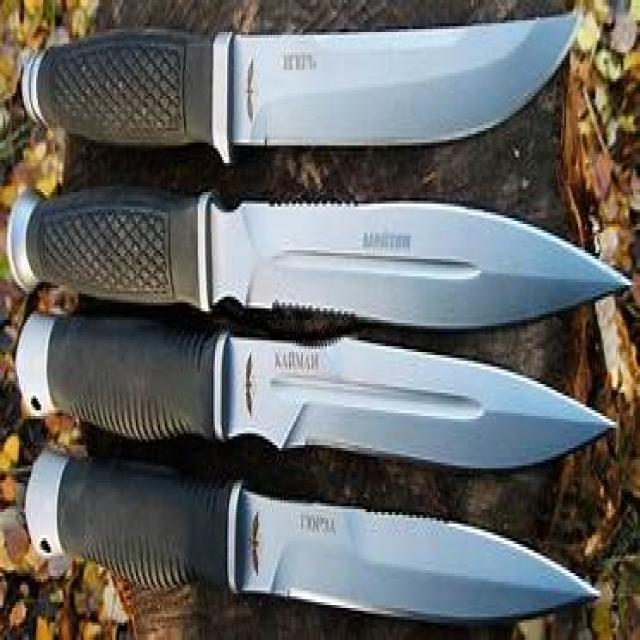Knife: (12, 5, 596, 160), (3, 187, 634, 324), (1, 346, 634, 470), (179, 500, 613, 628)
